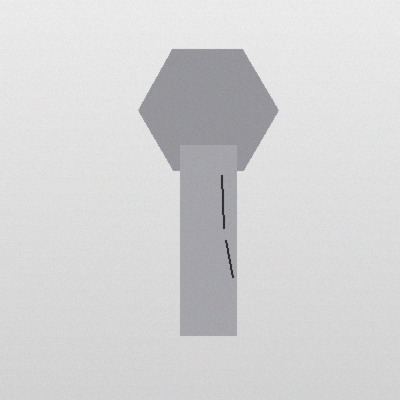scratch: (219, 236, 238, 281), (215, 171, 229, 232)
